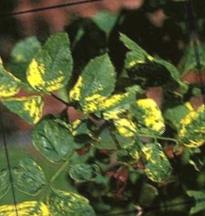Tomato leaf mosaic virus: (25, 28, 77, 94), (63, 51, 119, 110), (30, 116, 78, 167), (138, 137, 179, 187), (11, 153, 52, 200), (45, 183, 99, 216), (66, 158, 103, 185)
